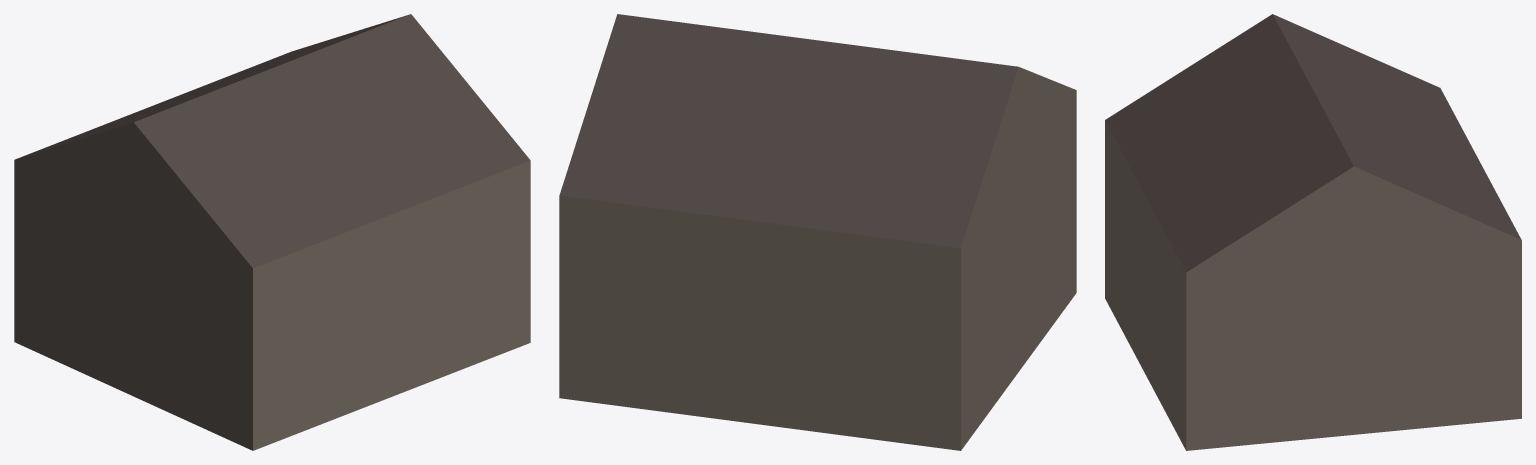
The picture shows the model from 3 angles, left to right: view 1: azimuth 30°, elevation 25°; view 2: azimuth 150°, elevation 25°; view 3: azimuth 270°, elevation 25°; orthographic projection. The views are drawn at different scales.
Parts seen in each view (by area): view 1: HP-w372180426; view 2: HP-w372180426; view 3: HP-w372180426.
Boxes of the visible parts, box(x1,y1,x2,y2) form: HP-w372180426: box(14, 14, 530, 450); HP-w372180426: box(559, 14, 1076, 450); HP-w372180426: box(1105, 14, 1521, 450).
Bounding box in the file's own units: 13.32 × 9.03 × 12.71.
